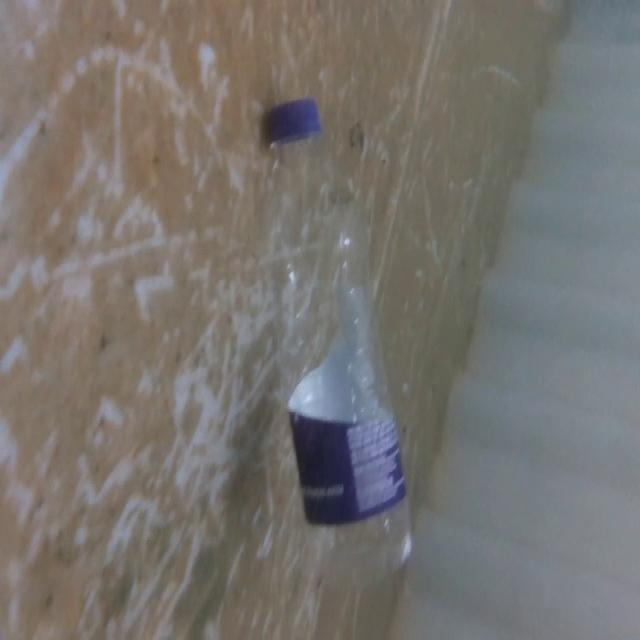plastic bottle: (236, 79, 427, 603)
